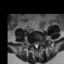CCS_normal: (35, 42, 37, 51)
LFS_severe_stenosis: (39, 41, 40, 46)
LLS_stenosis: (37, 42, 39, 49)
RFS_severe_stenosis: (32, 41, 33, 46)
RLS_stenosis: (33, 43, 35, 48)
